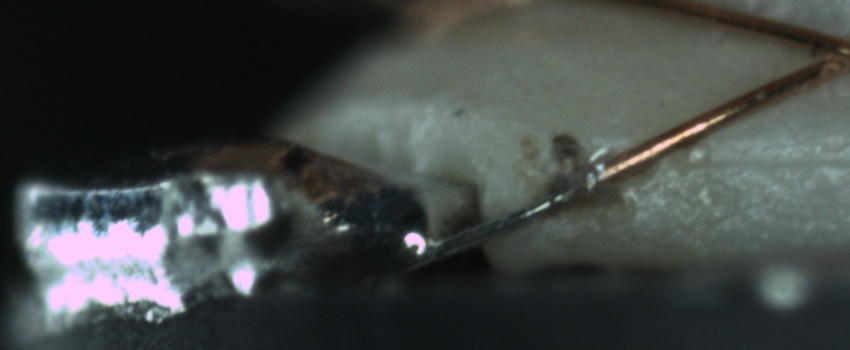CL: (796, 28, 850, 85)
DL: (681, 128, 850, 192)
TS: (412, 172, 597, 267)
TTCW: (423, 152, 639, 257)
